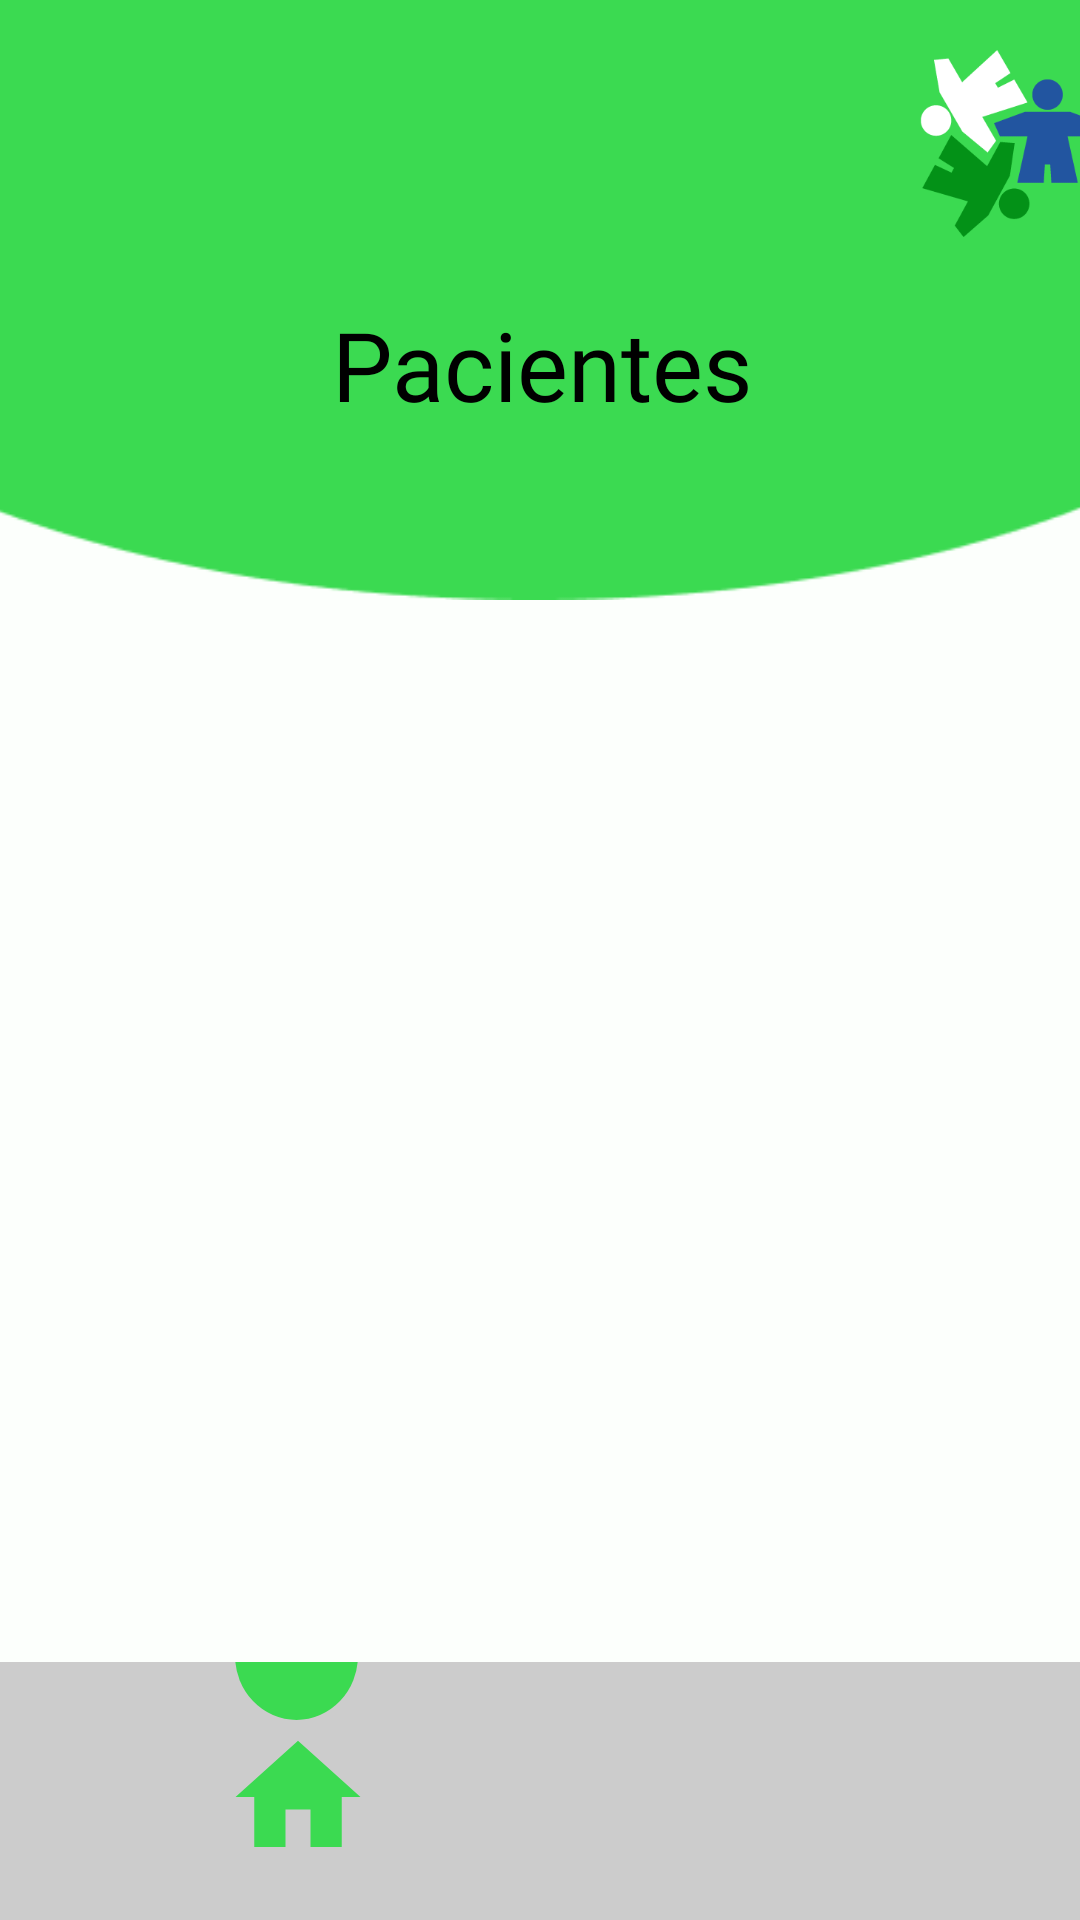

Point at icon controls on the screen. Image size 1080px x 1920px, points as point (x, y).
home: point (298, 1794)
